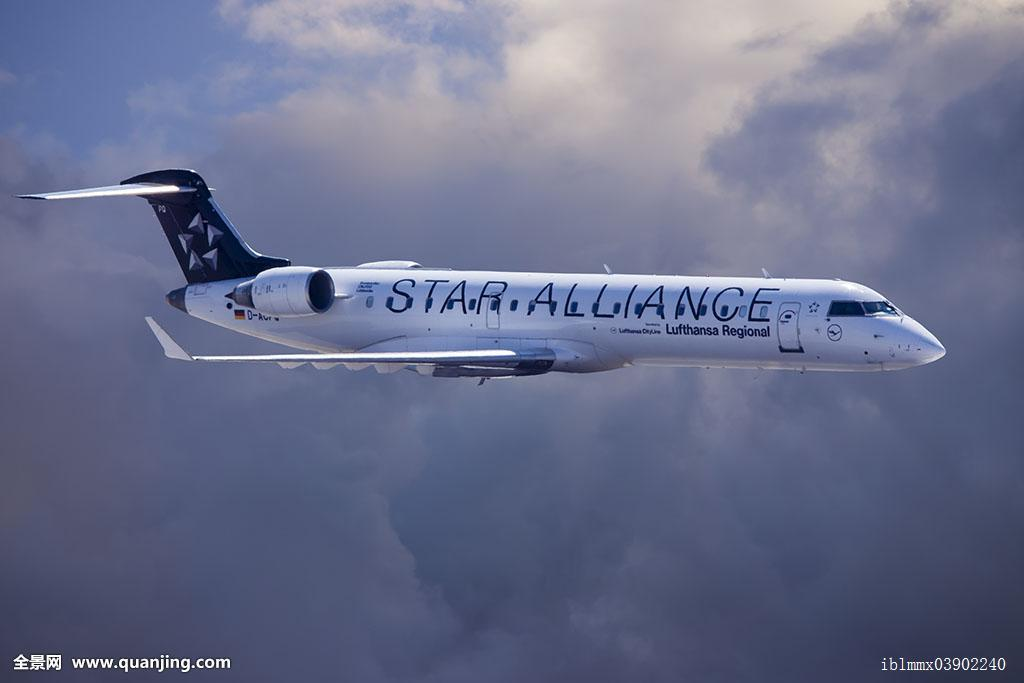airplane: (11, 165, 951, 386)
